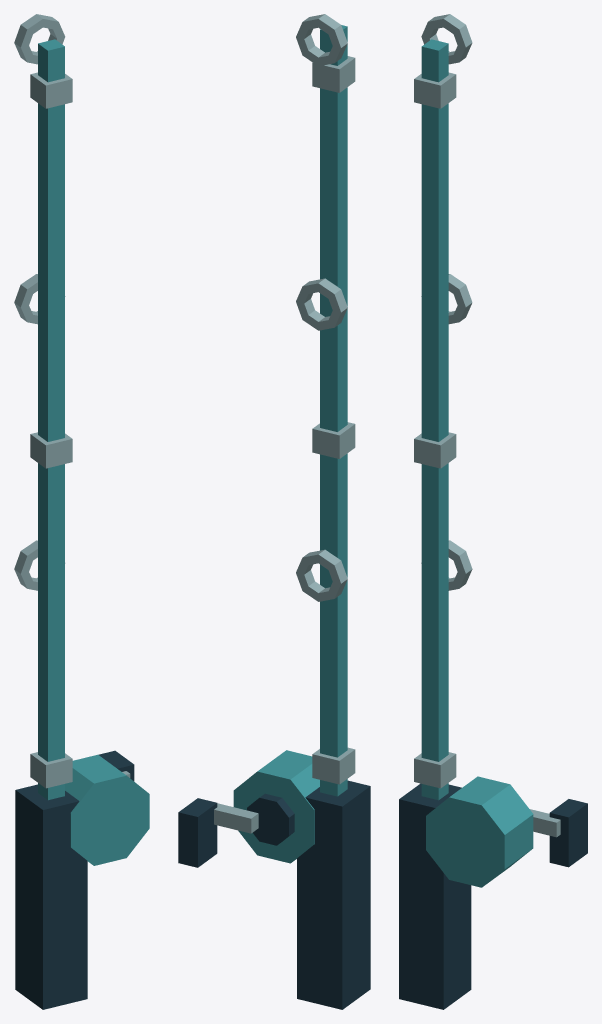
File: rod_light.gltf
The picture shows the model from 3 angles, left to right: view 1: azimuth 30°, elevation 25°; view 2: azimuth 150°, elevation 25°; view 3: azimuth 330°, elevation 25°; orthographic projection.
Parts seen in each view (by area): view 1: rod_light; view 2: rod_light; view 3: rod_light.
Part boxes in pixels (<box>): rod_light: <box>14,14,149,1009</box>; rod_light: <box>178,14,370,1009</box>; rod_light: <box>399,14,587,1009</box>.
Size of the model in its own units: 0.205 by 1.46 by 0.16.
